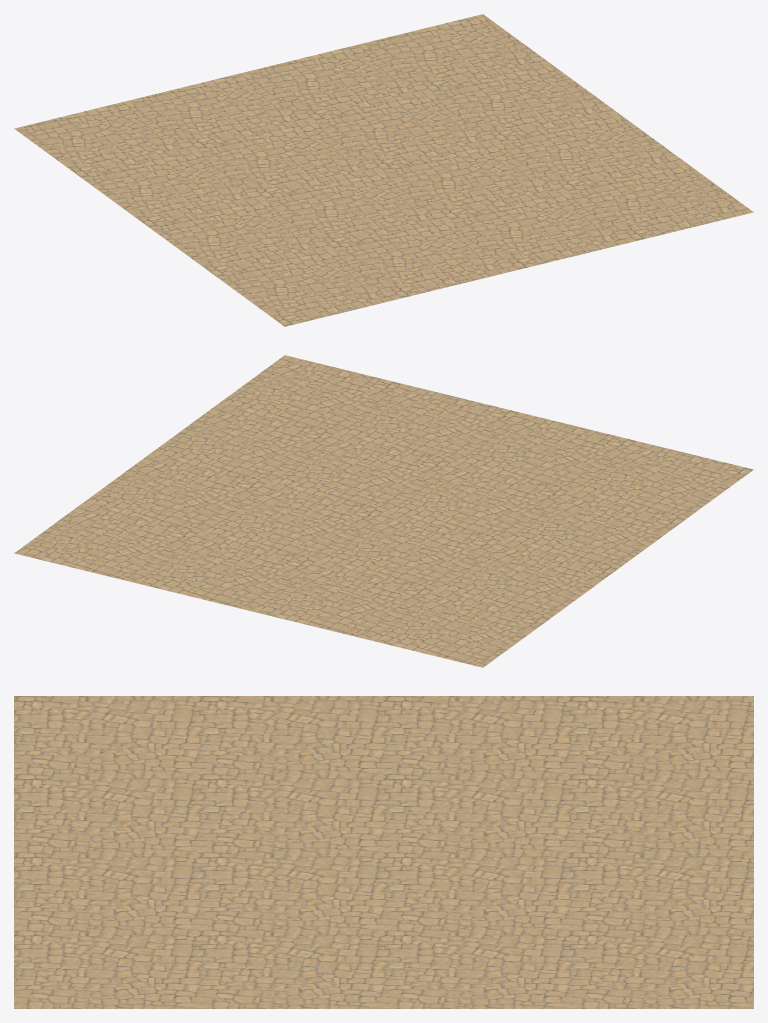
The model's file is Desert.glb.
3 renders of one model, top to bottom at view 1: azimuth 30°, elevation 25°; view 2: azimuth 150°, elevation 25°; view 3: azimuth 270°, elevation 25°, orthographic. The views are drawn at different scales.
Visible parts, largest first — view 1: Desert; view 2: Desert; view 3: Desert.
Boxes of the visible parts, x1,y1,x2,y2 form: Desert: (14,14,753,326); Desert: (14,355,753,667); Desert: (14,696,753,1008).
Bounding box in the file's own units: 7 × 0 × 7.
1 material, 1 textured.
